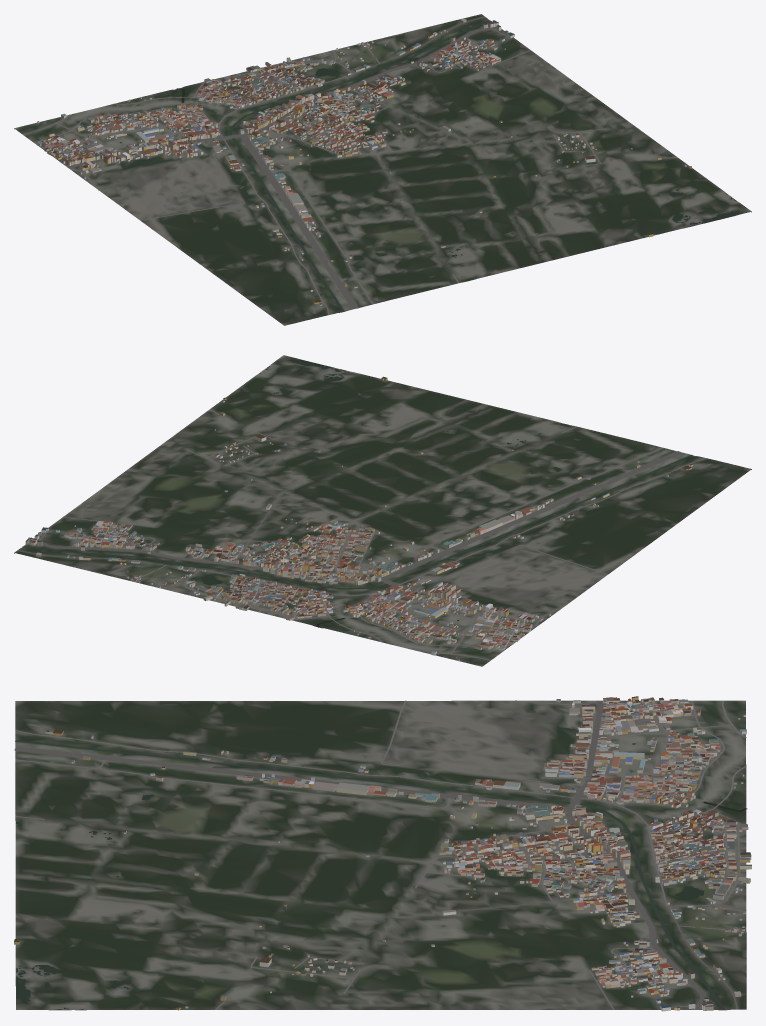
The picture shows the model from 3 angles, top to bottom: view 1: azimuth 30°, elevation 25°; view 2: azimuth 150°, elevation 25°; view 3: azimuth 270°, elevation 25°; orthographic projection. The views are drawn at different scales.
Parts seen in each view (by area): view 1: ground, buildings, roads, water; view 2: ground, buildings, roads, water; view 3: ground, buildings, roads, water.
Boxes of the visible parts, box(x1,y1,x2,y2) form: ground: box(14, 14, 751, 325); buildings: box(36, 18, 691, 305); roads: box(22, 16, 677, 314); water: box(119, 20, 736, 311); ground: box(14, 355, 751, 666); buildings: box(25, 376, 692, 661); roads: box(17, 409, 707, 660); water: box(22, 359, 692, 627); ground: box(15, 700, 746, 1010); buildings: box(14, 696, 751, 1011); roads: box(14, 700, 746, 1009); water: box(15, 740, 747, 1009).
Bounding box in the file's own units: 1412 × 26.16 × 1416.
